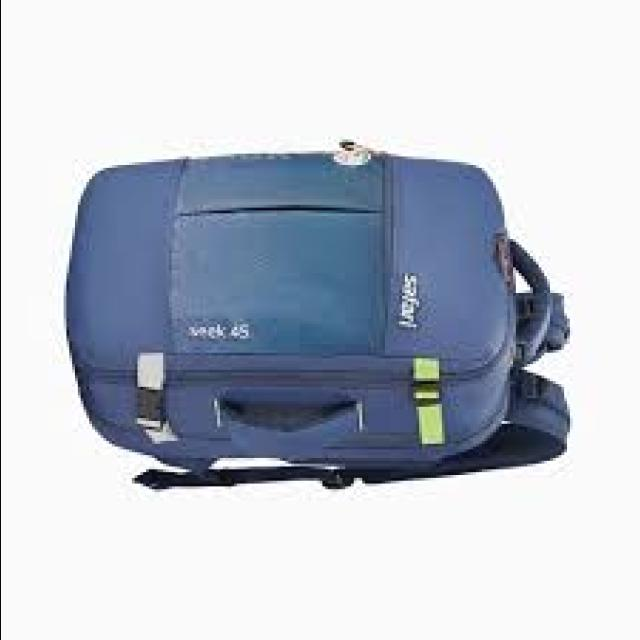backpack: (67, 141, 576, 491)
